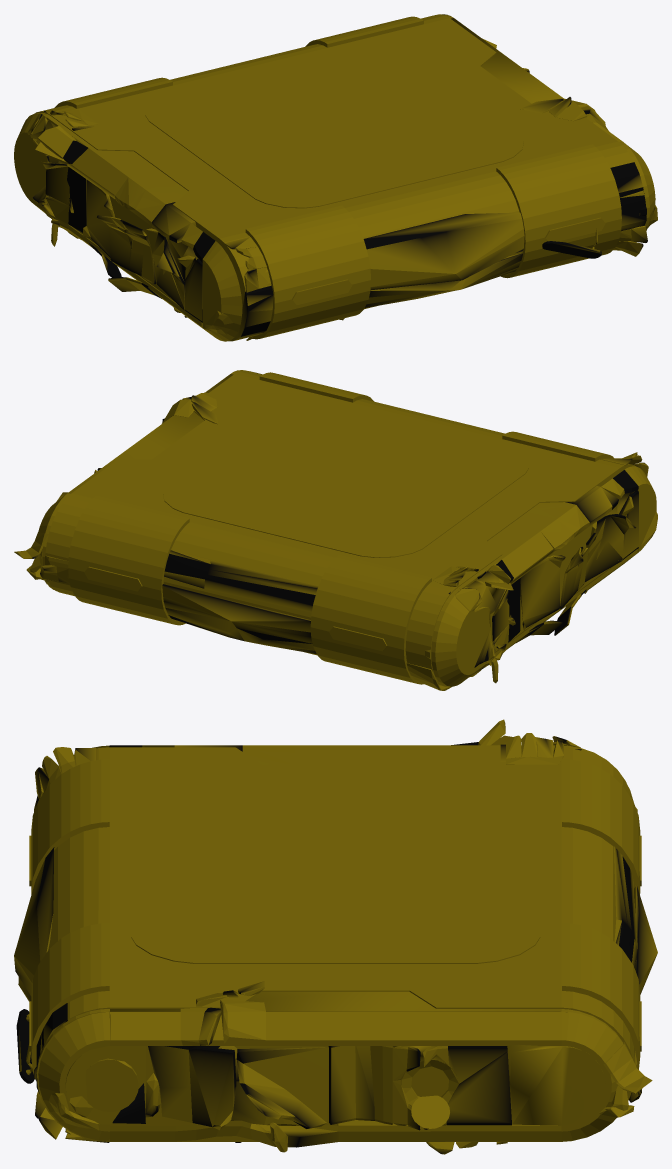
The model's file is env_warehousedestroyed_warehouse01_col.fbx.
The picture shows the model from 3 angles, top to bottom: view 1: azimuth 30°, elevation 25°; view 2: azimuth 150°, elevation 25°; view 3: azimuth 270°, elevation 25°; orthographic projection. The views are drawn at different scales.
Parts seen in each view (by area): view 1: env_building_warehouse01_col.001, env_building_warehouse01_col.015, env_building_warehouse01_col.016, env_building_warehouse01_col.122, env_building_warehouse01_col.012, env_building_warehouse01_col.023, env_building_warehouse01_col.017, env_building_warehouse01_col.207, env_building_warehouse01_col.209, env_building_warehouse01_col.022, env_building_warehouse01_col.090, env_building_warehouse01_col.040 (+21 smaller); view 2: env_building_warehouse01_col.001, env_building_warehouse01_col.016, env_building_warehouse01_col.015, env_building_warehouse01_col.013, env_building_warehouse01_col.014, env_building_warehouse01_col.224, env_building_warehouse01_col.030, env_building_warehouse01_col.017, env_building_warehouse01_col.206, env_building_warehouse01_col.209, env_building_warehouse01_col.164, env_building_warehouse01_col.090 (+18 smaller); view 3: env_building_warehouse01_col.001, env_building_warehouse01_col.016, env_building_warehouse01_col.015, env_building_warehouse01_col.090, env_building_warehouse01_col.017, env_building_warehouse01_col.012, env_building_warehouse01_col.013, env_building_warehouse01_col.014, env_building_warehouse01_col.122, env_building_warehouse01_col.091, env_building_warehouse01_col.005, env_building_warehouse01_col.003 (+35 smaller).
Boxes of the visible parts, x1,y1,x2,y2 form: env_building_warehouse01_col.001: (145,47,523,208); env_building_warehouse01_col.015: (173,109,644,341); env_building_warehouse01_col.016: (35,14,496,244); env_building_warehouse01_col.122: (245,205,370,339); env_building_warehouse01_col.012: (496,144,621,278); env_building_warehouse01_col.023: (363,212,524,289); env_building_warehouse01_col.017: (134,66,531,190); env_building_warehouse01_col.207: (202,241,242,341); env_building_warehouse01_col.209: (67,135,158,198); env_building_warehouse01_col.022: (365,253,522,307); env_building_warehouse01_col.090: (451,18,621,142); env_building_warehouse01_col.040: (610,162,646,231); env_building_warehouse01_col.001: (163,402,528,557); env_building_warehouse01_col.016: (45,459,502,686); env_building_warehouse01_col.015: (193,370,638,592); env_building_warehouse01_col.013: (68,496,189,625); env_building_warehouse01_col.014: (310,555,431,684); env_building_warehouse01_col.224: (162,584,316,654); env_building_warehouse01_col.030: (164,550,318,612); env_building_warehouse01_col.017: (152,420,539,541); env_building_warehouse01_col.206: (431,588,474,686); env_building_warehouse01_col.209: (483,524,553,584); env_building_warehouse01_col.164: (520,557,559,628); env_building_warehouse01_col.090: (68,374,233,493); env_building_warehouse01_col.001: (131,790,540,963); env_building_warehouse01_col.016: (409,747,634,1097); env_building_warehouse01_col.015: (40,747,261,1053); env_building_warehouse01_col.090: (110,991,561,1045); env_building_warehouse01_col.017: (262,764,409,991); env_building_warehouse01_col.012: (31,923,109,1081); env_building_warehouse01_col.013: (562,923,640,1069); env_building_warehouse01_col.014: (562,759,640,894); env_building_warehouse01_col.122: (31,759,109,894); env_building_warehouse01_col.091: (512,1046,605,1125); env_building_warehouse01_col.005: (337,1120,561,1141); env_building_warehouse01_col.003: (236,1047,328,1124).
Bounding box in the file's own units: 640 × 157 × 543.
